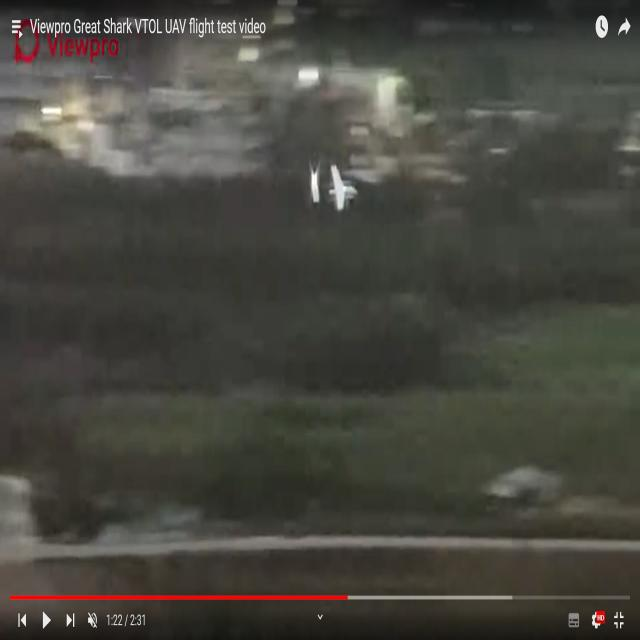iha: (309, 162, 358, 213)
